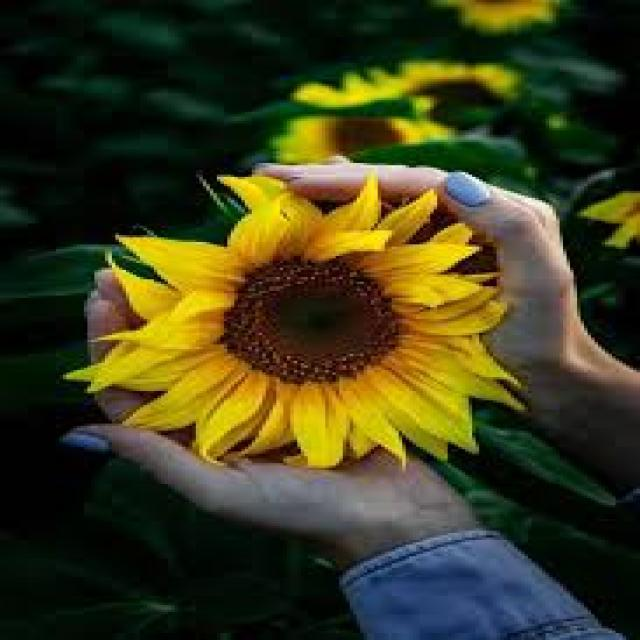sunflower: (63, 173, 528, 470), (294, 61, 532, 138), (270, 115, 414, 164), (435, 0, 563, 35), (577, 193, 640, 249)
